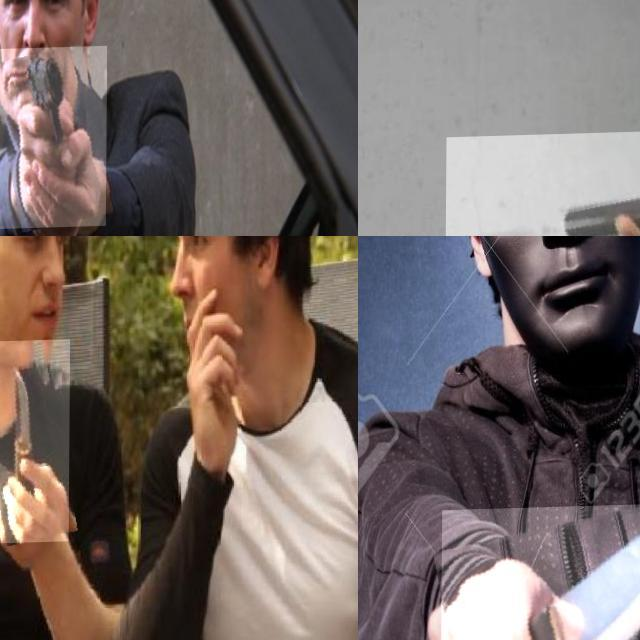-: (441, 504, 640, 640), (446, 134, 640, 236), (0, 341, 70, 545)
gun-knife-thesis - v11 Yolov5 augmented: (0, 48, 107, 230)
